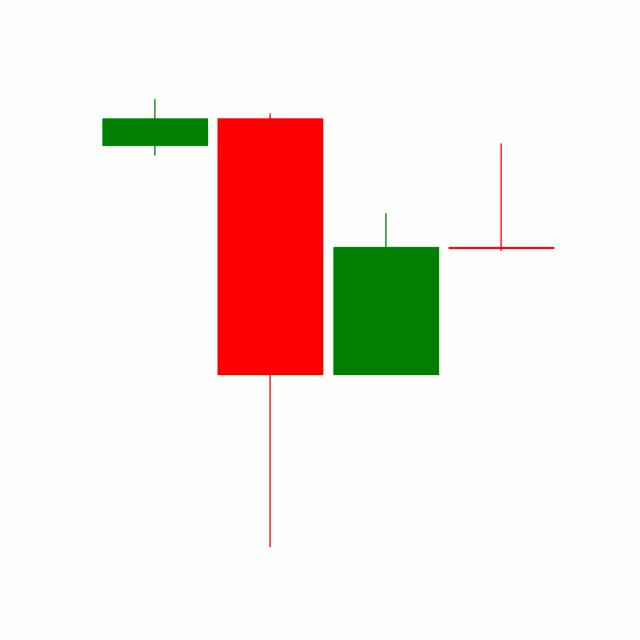Gravestone Doji: (443, 142, 559, 252)
